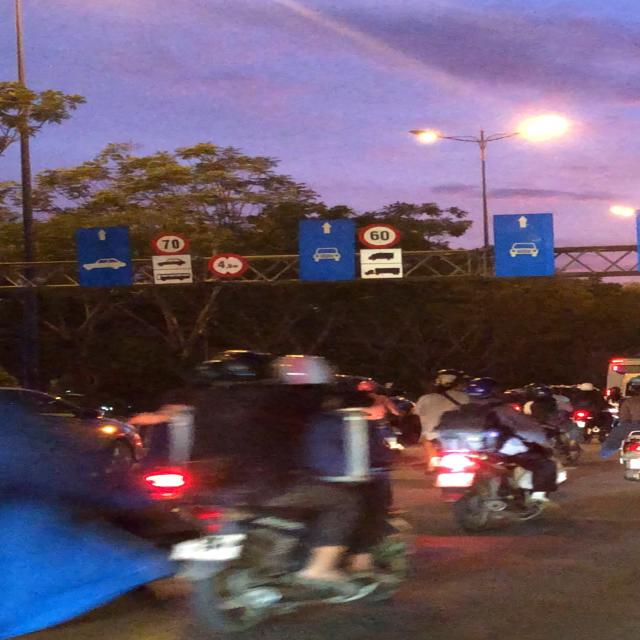Bien bao han che chieu cao: (209, 252, 255, 278)
Bien bao toc do toi da cho phep: (151, 231, 193, 256), (355, 223, 395, 249)
